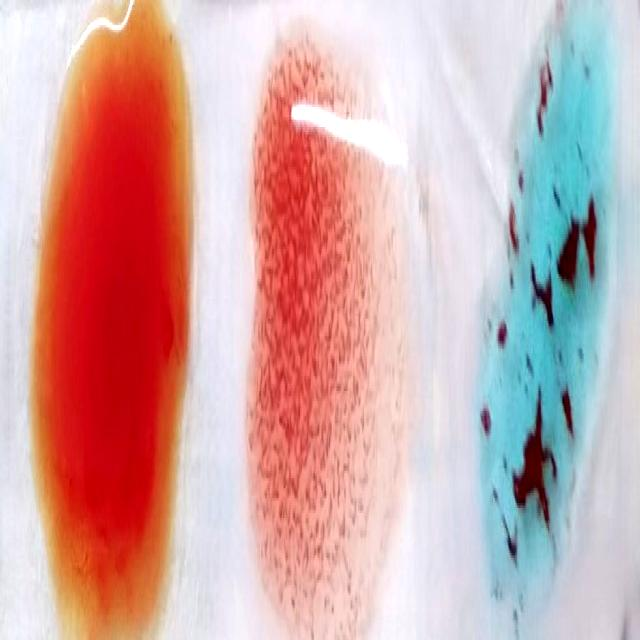A: (474, 8, 615, 640)
D: (248, 58, 397, 640)
